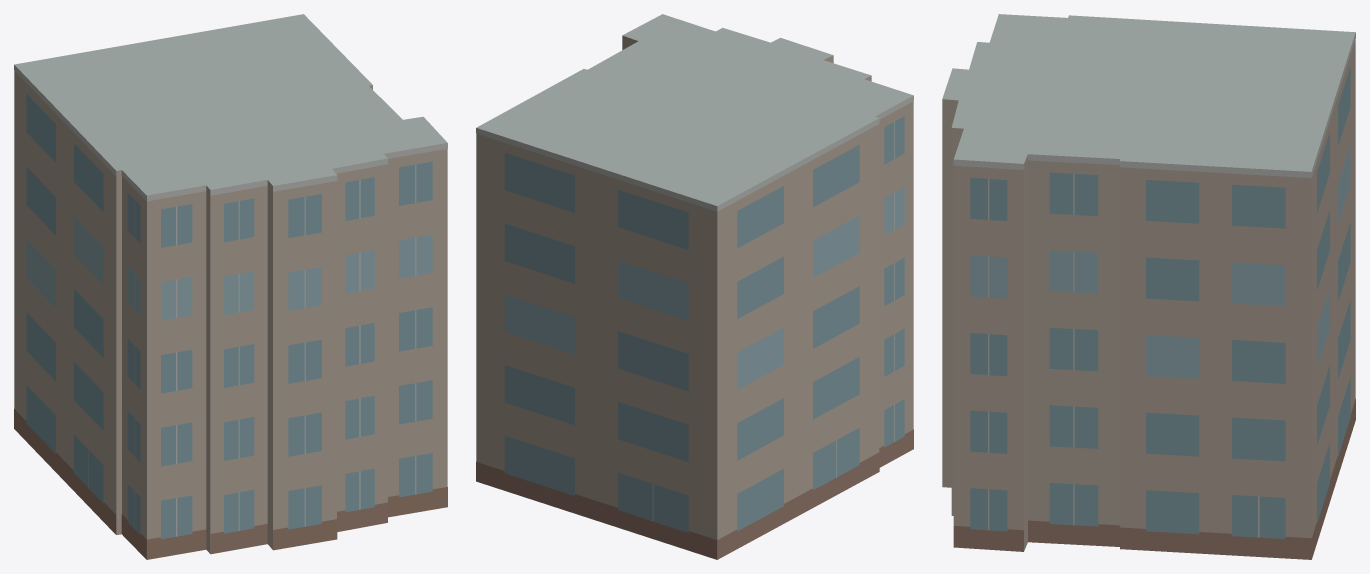
Rendered from survey-upis-32772043.glb.
The picture shows the model from 3 angles, left to right: view 1: azimuth 30°, elevation 25°; view 2: azimuth 150°, elevation 25°; view 3: azimuth 270°, elevation 25°; orthographic projection. The views are drawn at different scales.
Parts seen in each view (by area): view 1: survey-upis-32772043.tmp; view 2: survey-upis-32772043.tmp; view 3: survey-upis-32772043.tmp.
Boxes of the visible parts, bbox=[...] form: survey-upis-32772043.tmp: bbox=[14, 14, 447, 559]; survey-upis-32772043.tmp: bbox=[476, 14, 913, 559]; survey-upis-32772043.tmp: bbox=[942, 14, 1355, 559].
Bounding box in the file's own units: 13.41 × 15.35 × 14.84.
